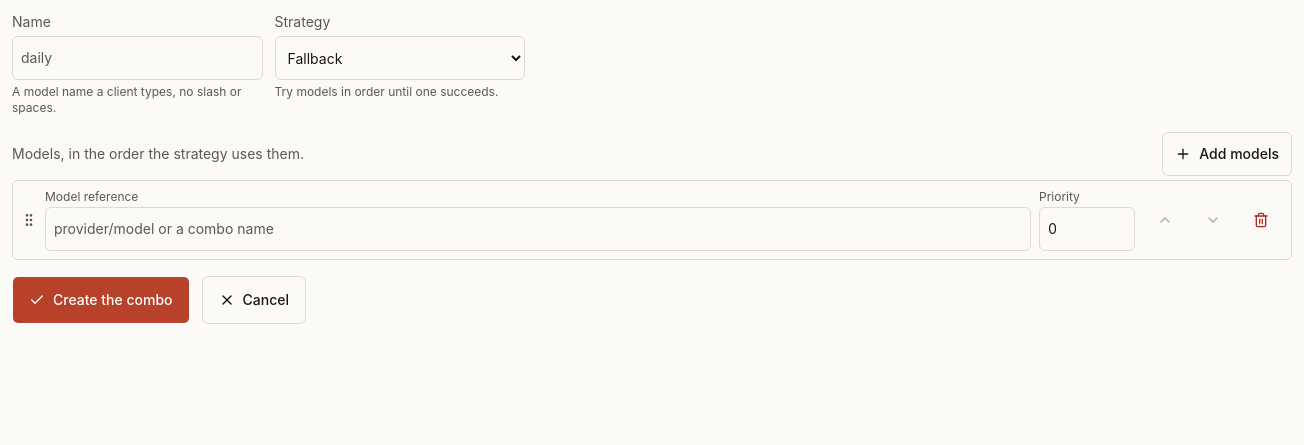
Test: ComboEditor strategy fields › hides the sticky limit unless the strategy is round_robin
Check: the field labelled "Sticky limit" is not shown
Select "Round robin" in the dropdown labelled "Strategy": (400, 58) [274,36,525,80]
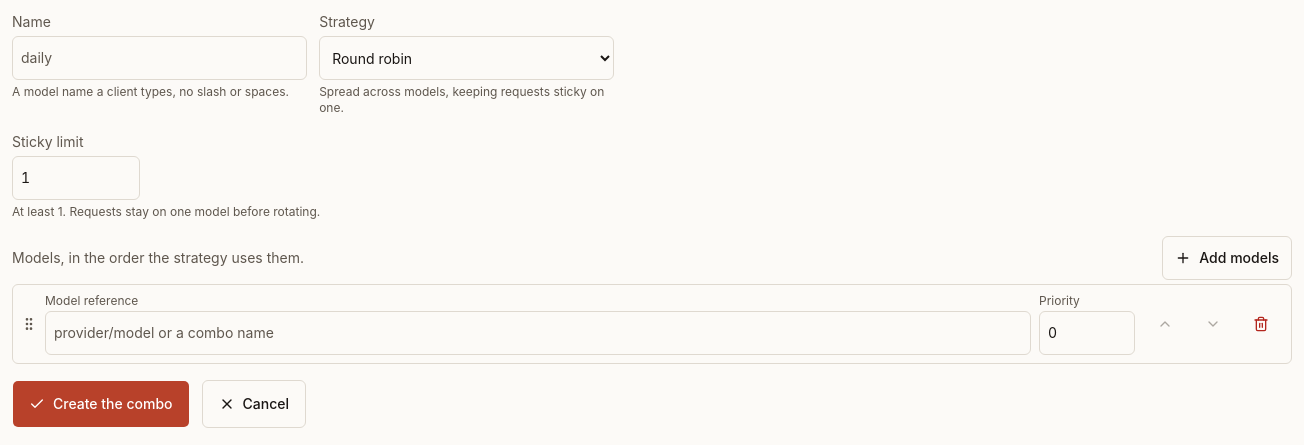
Check: the number field labelled "Sticky limit" is shown, box [12,156,140,200]
Select "Fusion" in the dropdown labelled "Strategy": (467, 58) [319,36,614,80]
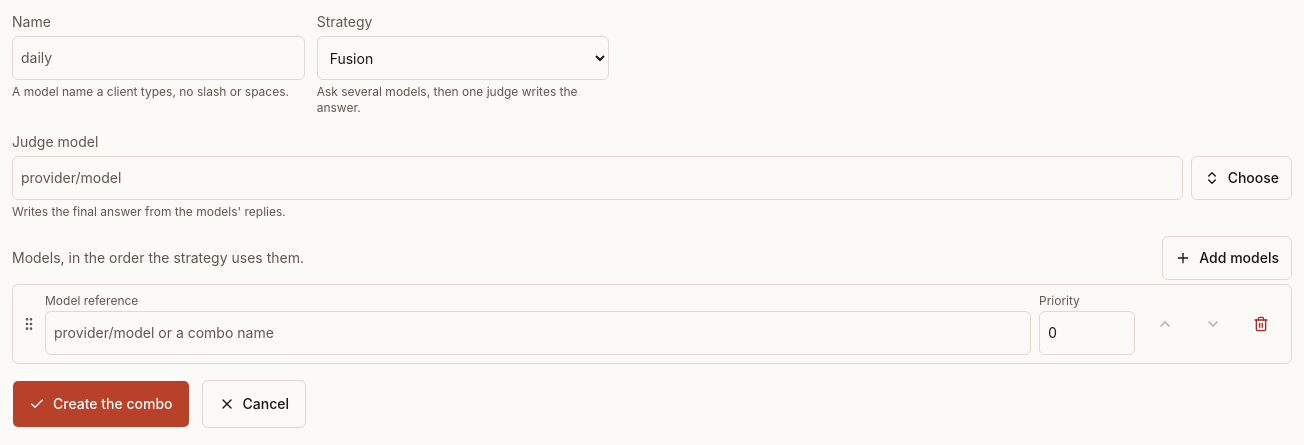
Check: the label labelled "Sticky limit" is gone
